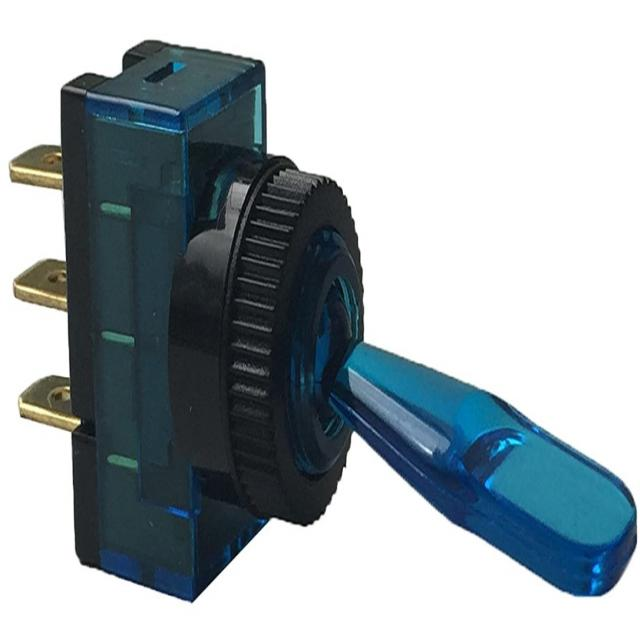toggle switch: (169, 153, 637, 600)
